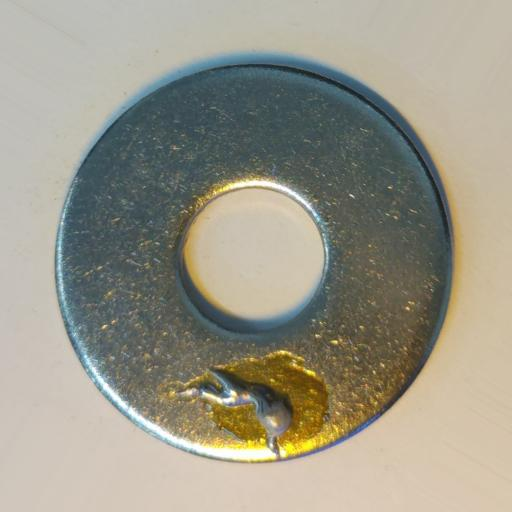excess_material: (175, 366, 292, 459)
